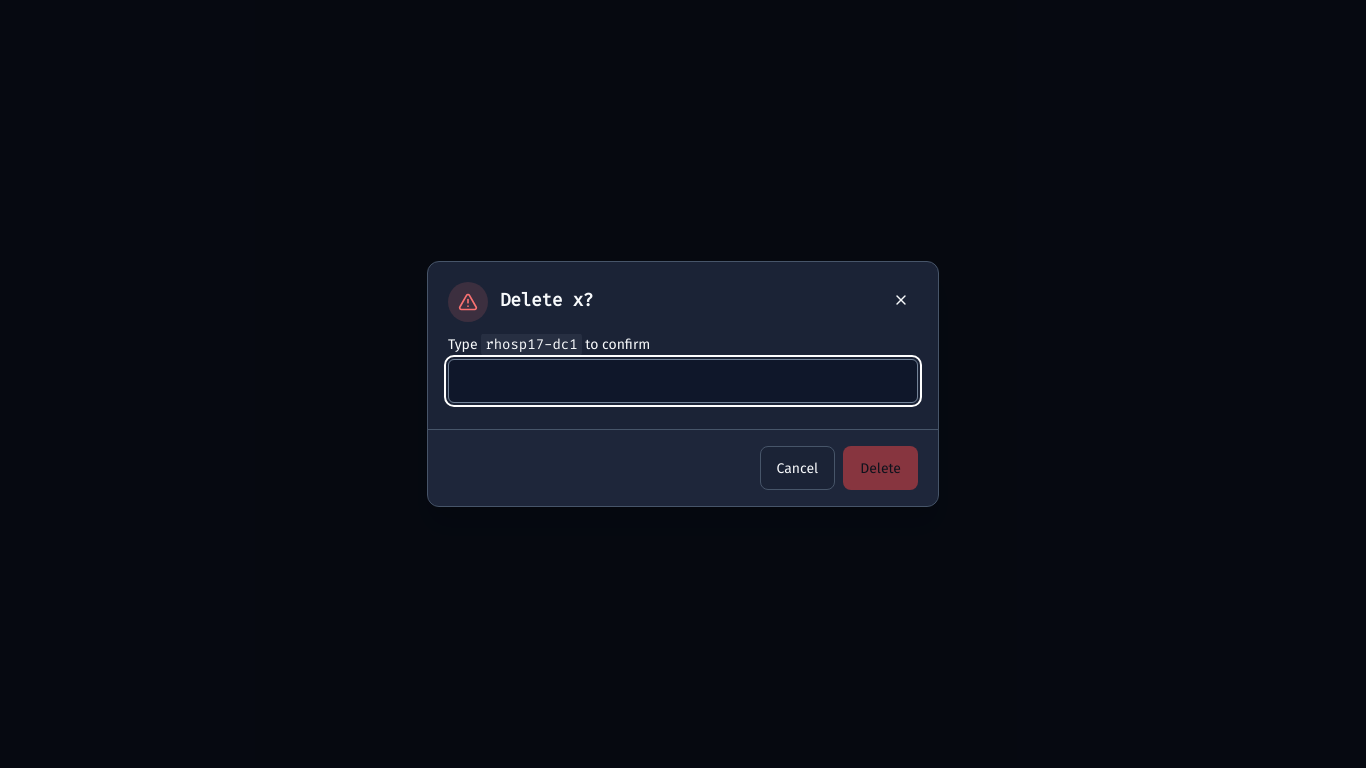
ConfirmDialog › says when the typed text matches
The image size is (1366, 768).
Step 1. Type "rhosp17-dc1" into the field labelled "Type rhosp17-dc1 to confirm" → (683, 381), box [448,359,918,403]
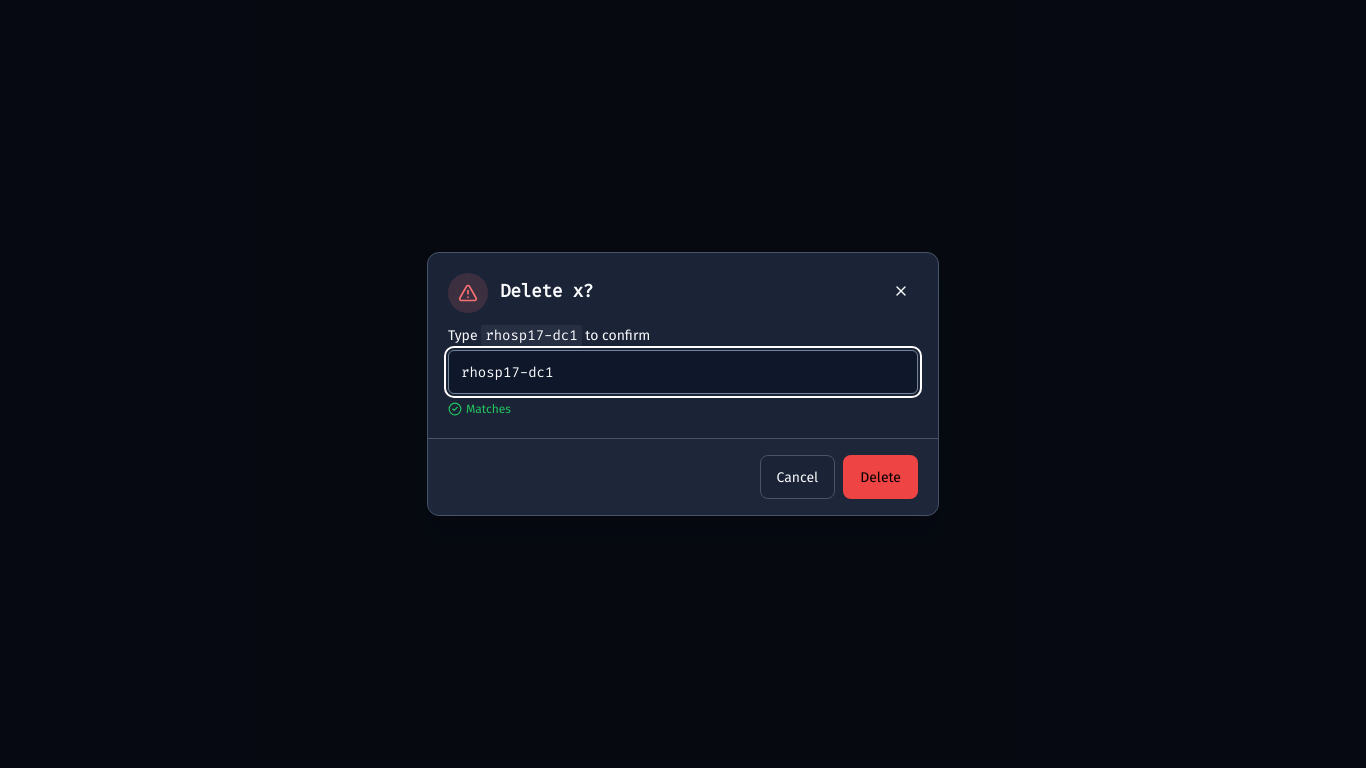
Expected: the message "Matches" is shown, [448,402,511,416]
